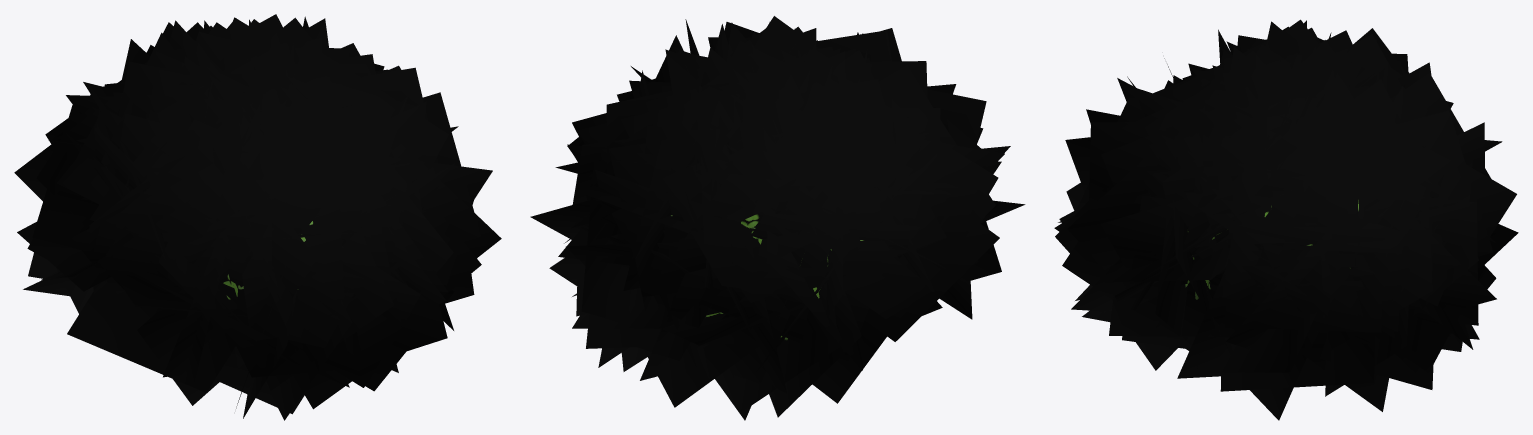
File: Bush_140.001.fbx
The picture shows the model from 3 angles, left to right: view 1: azimuth 30°, elevation 25°; view 2: azimuth 150°, elevation 25°; view 3: azimuth 270°, elevation 25°; orthographic projection. The views are drawn at different scales.
Visible parts, largest first — view 1: Bush_140; view 2: Bush_140; view 3: Bush_140.
Boxes of the visible parts, <box> form: Bush_140: <box>14,14,501,420</box>; Bush_140: <box>530,16,1025,420</box>; Bush_140: <box>1054,19,1518,420</box>.
Bounding box in the file's own units: 250 × 193 × 250.
